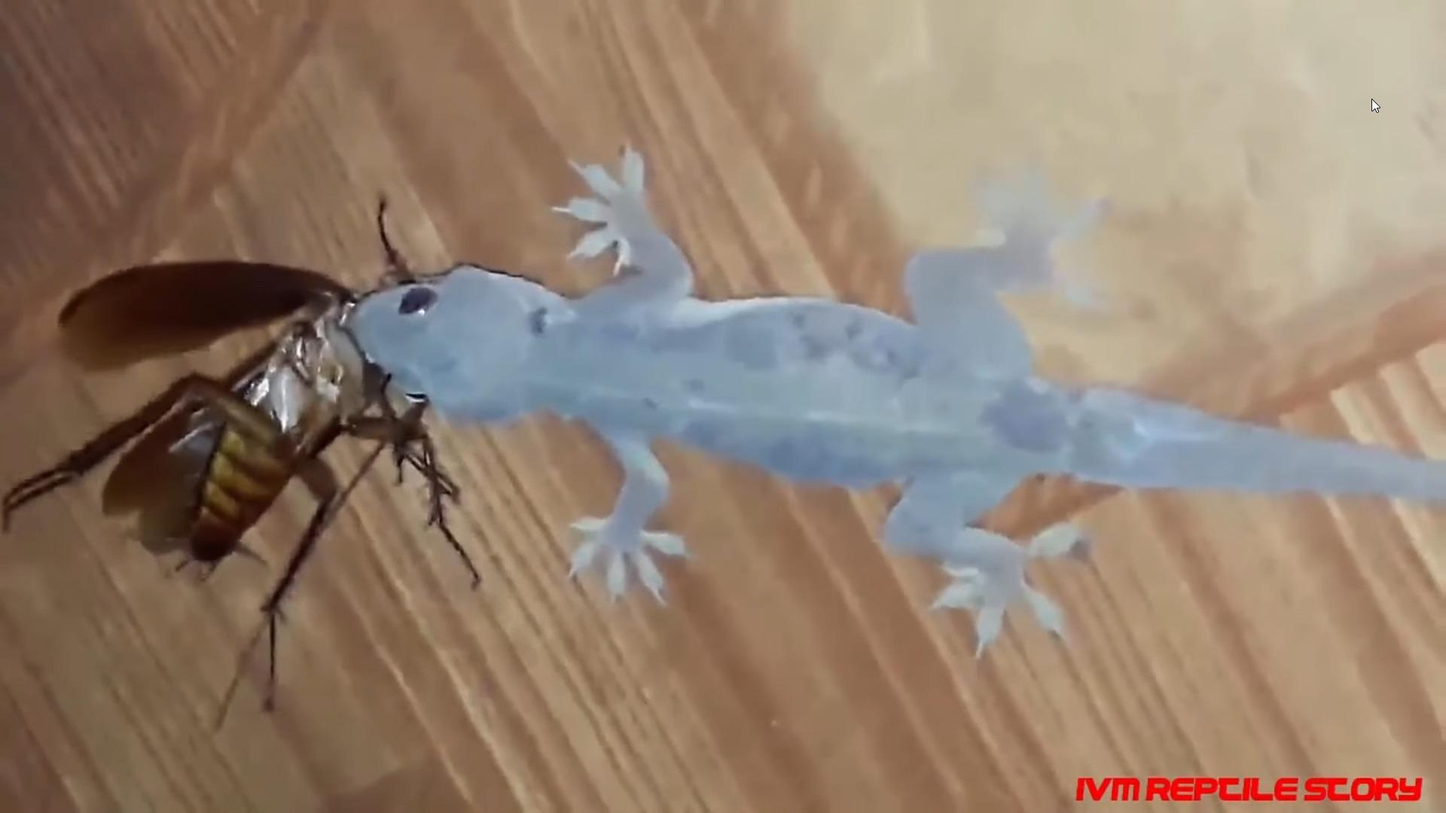cockroach: (80, 276, 366, 573)
lizard: (353, 173, 1287, 673)
